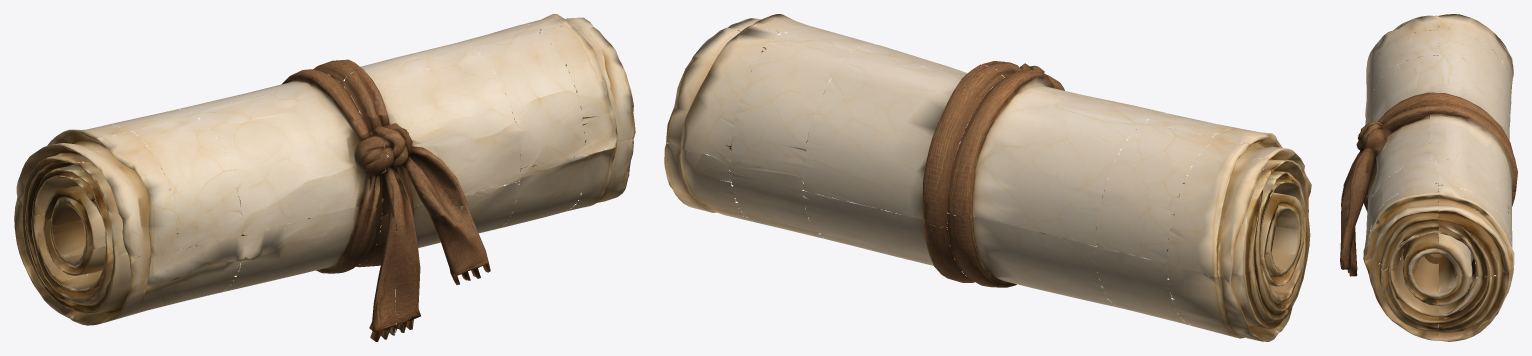
The model's file is hi3d-scroll.glb.
3 renders of one model, left to right at view 1: azimuth 30°, elevation 25°; view 2: azimuth 150°, elevation 25°; view 3: azimuth 270°, elevation 25°, orthographic. The views are drawn at different scales.
Visible parts, largest first — view 1: scroll; view 2: scroll; view 3: scroll.
Boxes of the visible parts, x1,y1,x2,y2 form: scroll: [14, 14, 635, 341]; scroll: [664, 14, 1311, 341]; scroll: [1340, 14, 1517, 341].
Bounding box in the file's own units: 0.7844 × 0.2996 × 0.2823.
1 material, 1 textured.
